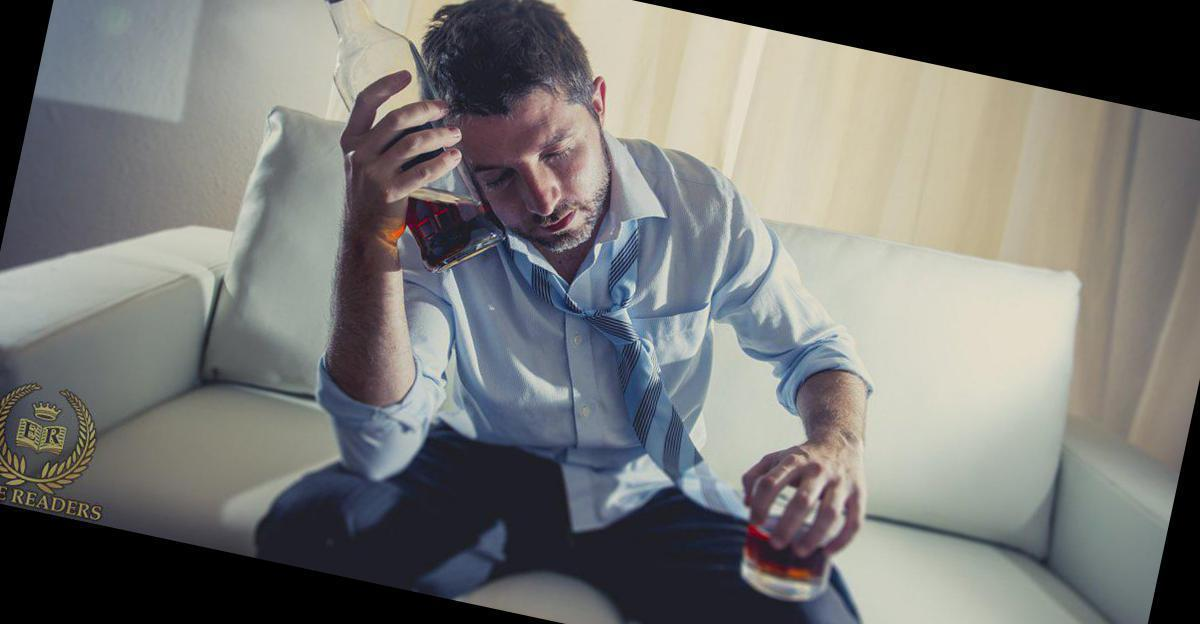Drunk: (461, 99, 604, 245)
